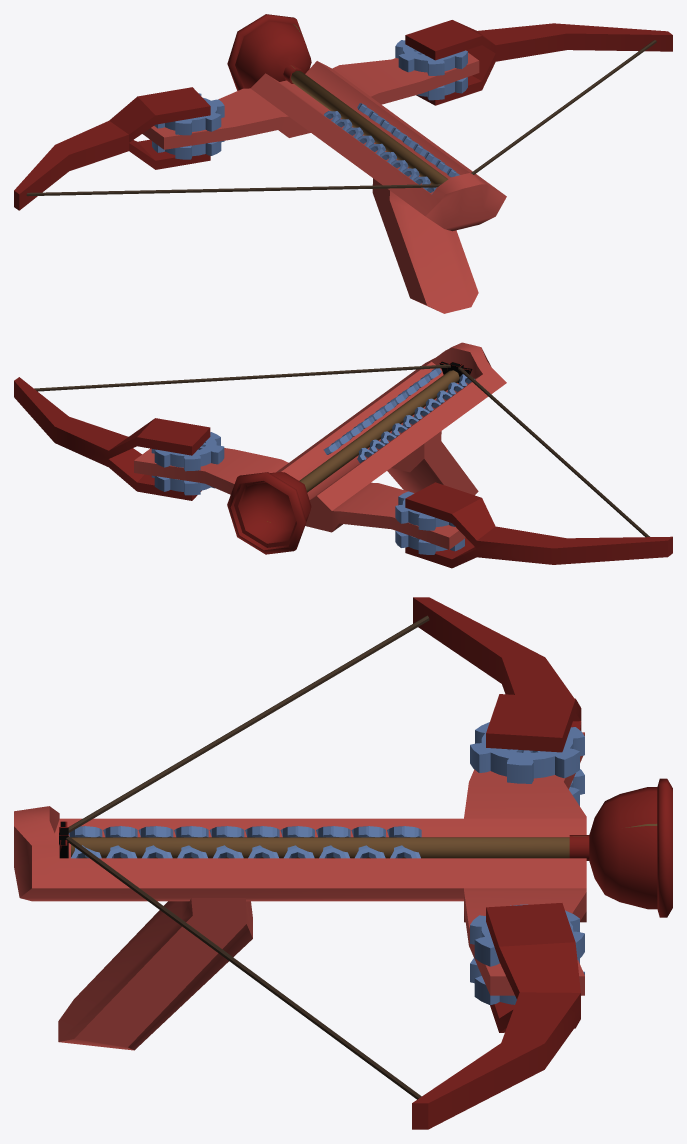
The model's file is grapple.fbx.
The picture shows the model from 3 angles, top to bottom: view 1: azimuth 30°, elevation 25°; view 2: azimuth 150°, elevation 25°; view 3: azimuth 270°, elevation 25°; orthographic projection. The views are drawn at different scales.
Parts seen in each view (by area): view 1: Cube.030, Cube.027, Cube.024, Cube.022, Cube.021, Cube.031, Cube.026, Cube.023, Cube.029, Cube.025, Cube.028; view 2: Cube.030, Cube.024, Cube.027, Cube.022, Cube.021, Cube.029, Cube.026, Cube.031, Cube.023, Cube.028, Cube.025; view 3: Cube.030, Cube.027, Cube.024, Cube.022, Cube.021, Cube.023, Cube.029, Cube.031, Cube.026.
Boxes of the visible parts, bbox=[...] form: Cube.030: bbox=[142, 52, 506, 313]; Cube.027: bbox=[405, 20, 672, 105]; Cube.024: bbox=[14, 87, 210, 210]; Cube.022: bbox=[227, 14, 311, 90]; Cube.021: bbox=[290, 71, 448, 184]; Cube.031: bbox=[26, 184, 441, 196]; Cube.026: bbox=[395, 40, 467, 75]; Cube.023: bbox=[154, 93, 224, 135]; Cube.029: bbox=[471, 40, 656, 174]; Cube.025: bbox=[152, 140, 224, 159]; Cube.028: bbox=[417, 77, 467, 100]; Cube.030: bbox=[134, 342, 506, 549]; Cube.024: bbox=[405, 482, 672, 568]; Cube.027: bbox=[14, 377, 210, 500]; Cube.022: bbox=[227, 472, 311, 554]; Cube.021: bbox=[299, 370, 459, 492]; Cube.029: bbox=[34, 364, 450, 391]; Cube.026: bbox=[151, 432, 224, 471]; Cube.031: bbox=[458, 367, 649, 537]; Cube.023: bbox=[395, 491, 455, 530]; Cube.028: bbox=[151, 475, 214, 495]; Cube.025: bbox=[395, 530, 464, 554]; Cube.030: bbox=[14, 732, 586, 1050]; Cube.027: bbox=[412, 903, 580, 1129]; Cube.024: bbox=[413, 597, 581, 752]; Cube.022: bbox=[569, 778, 672, 917]; Cube.021: bbox=[71, 837, 569, 858]; Cube.023: bbox=[470, 722, 584, 783]; Cube.029: bbox=[66, 836, 421, 1099]; Cube.031: bbox=[68, 615, 429, 832]; Cube.026: bbox=[470, 904, 584, 966].
Size of the model in its own units: 699 by 165 by 385.
